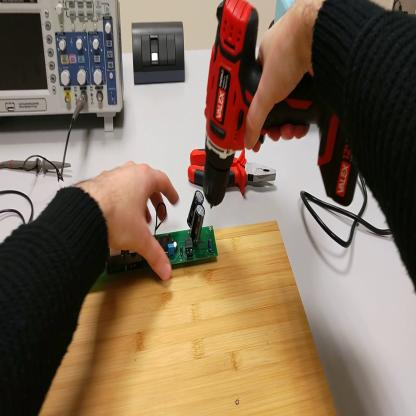electric screwdriver: (204, 2, 365, 209)
hand: (82, 160, 179, 286), (248, 2, 320, 154)
high voltage board: (106, 189, 219, 274)
oscilloscope: (2, 3, 125, 135)
oscilloscope probe tip: (2, 158, 75, 177)
pliers: (188, 149, 279, 196)
working area: (43, 221, 337, 416)
